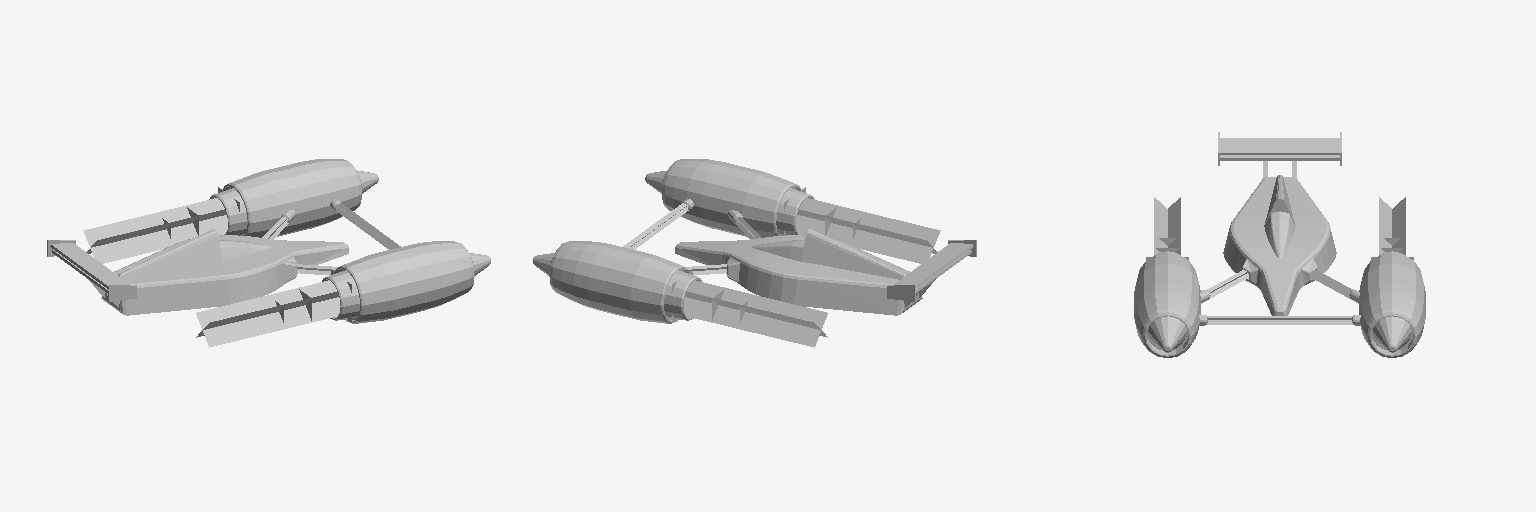
The model's file is pod-1.obj.
3 views of the same model, side by side, from view 1: azimuth 30°, elevation 25°; view 2: azimuth 150°, elevation 25°; view 3: azimuth 270°, elevation 25° (orthographic).
Parts seen in each view (by area): view 1: thrusters-1_Cylinder.003, pod-1_pod, flames-1_Cylinder.001, arcs-1_Cylinder.002; view 2: thrusters-1_Cylinder.003, pod-1_pod, flames-1_Cylinder.001, arcs-1_Cylinder.002; view 3: pod-1_pod, thrusters-1_Cylinder.003, flames-1_Cylinder.001, arcs-1_Cylinder.002.
Boxes of the visible parts, x1,y1,x2,y2 form: thrusters-1_Cylinder.003: [209, 159, 490, 323]; pod-1_pod: [47, 229, 348, 315]; flames-1_Cylinder.001: [83, 187, 351, 347]; arcs-1_Cylinder.002: [262, 203, 400, 275]; thrusters-1_Cylinder.003: [533, 159, 814, 323]; pod-1_pod: [675, 229, 976, 315]; flames-1_Cylinder.001: [672, 187, 940, 347]; arcs-1_Cylinder.002: [623, 203, 761, 275]; pod-1_pod: [1218, 132, 1341, 315]; thrusters-1_Cylinder.003: [1134, 251, 1425, 357]; flames-1_Cylinder.001: [1146, 197, 1413, 259]; arcs-1_Cylinder.002: [1201, 270, 1358, 324].
Bounding box in the file's own units: 4.02 × 0.7983 × 2.86.